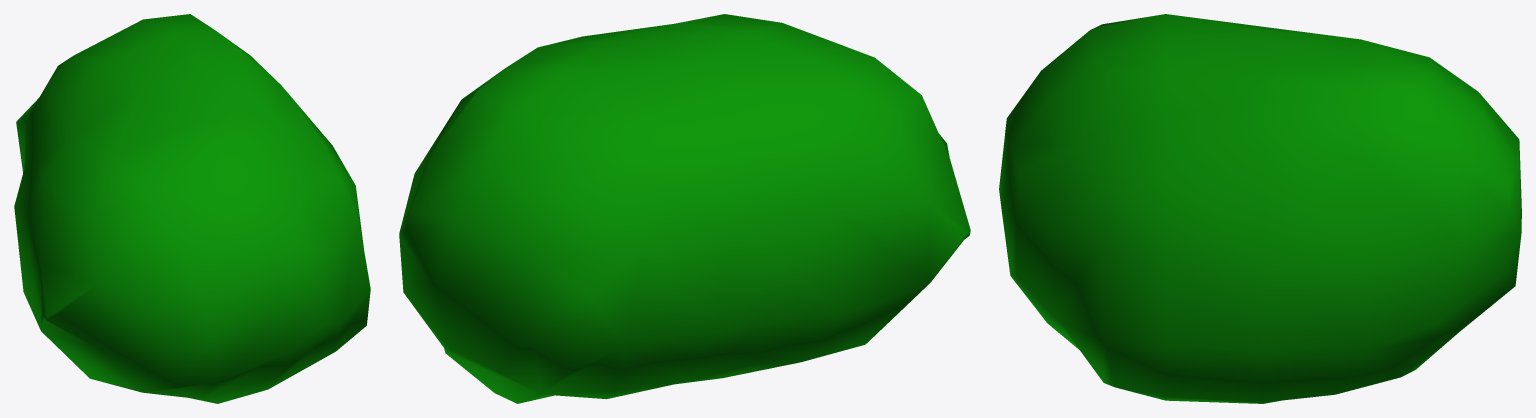
The model's file is sm_bush2_FH.fbx.
3 views of the same model, side by side, from view 1: azimuth 30°, elevation 25°; view 2: azimuth 150°, elevation 25°; view 3: azimuth 270°, elevation 25° (orthographic). The views are drawn at different scales.
Parts seen in each view (by area): view 1: Mball.003; view 2: Mball.003; view 3: Mball.003.
Boxes of the visible parts, x1,y1,x2,y2 form: Mball.003: (14, 14, 370, 403); Mball.003: (399, 14, 970, 403); Mball.003: (999, 14, 1521, 403).
Bounding box in the file's own units: 309 × 233 × 344.
